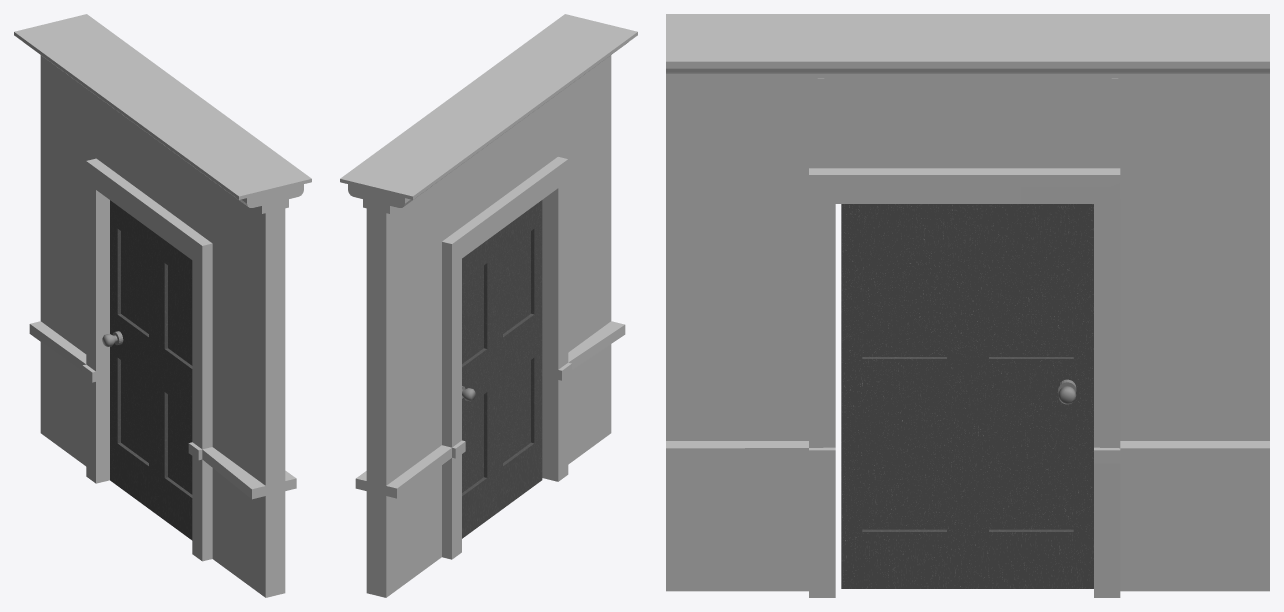
Rendered from DoorWithinHotelFrame.fbx.
The picture shows the model from 3 angles, left to right: view 1: azimuth 30°, elevation 25°; view 2: azimuth 150°, elevation 25°; view 3: azimuth 270°, elevation 25°; orthographic projection. The views are drawn at different scales.
Visible parts, largest first — view 1: DoubleUpHotelDoorway, Door, FancyPart7, FancyPart6; view 2: DoubleUpHotelDoorway, Door, FancyPart7, FancyPart6; view 3: DoubleUpHotelDoorway, Door, FancyPart6, FancyPart7.
Boxes of the visible parts, box(x1,y1,x2,y2) form: DoubleUpHotelDoorway: box(29, 20, 296, 597); Door: box(110, 200, 192, 540); FancyPart7: box(14, 25, 265, 213); FancyPart6: box(60, 14, 311, 208); DoubleUpHotelDoorway: box(355, 20, 625, 597); Door: box(462, 200, 542, 538); FancyPart7: box(386, 25, 637, 213); FancyPart6: box(340, 14, 591, 208); DoubleUpHotelDoorway: box(666, 31, 1269, 597); Door: box(841, 204, 1093, 588); FancyPart6: box(666, 44, 1269, 79); FancyPart7: box(666, 14, 1269, 31).
Bounding box in the file's own units: 0.7473 × 4 × 4.
